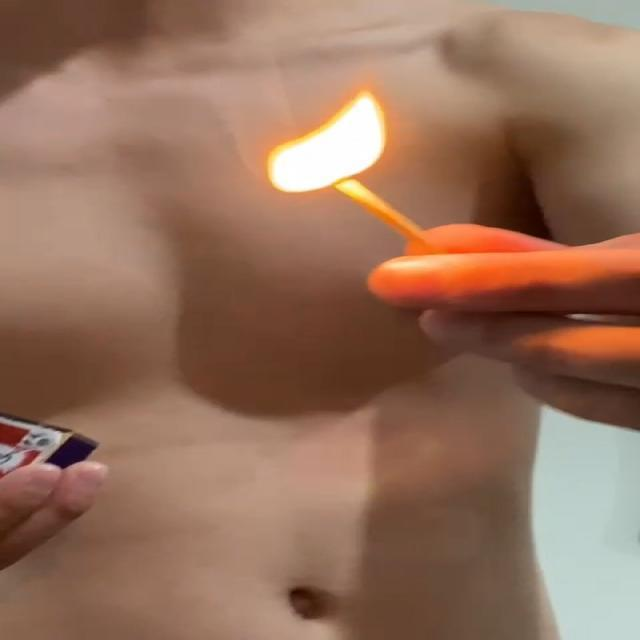fire: (251, 73, 392, 206)
